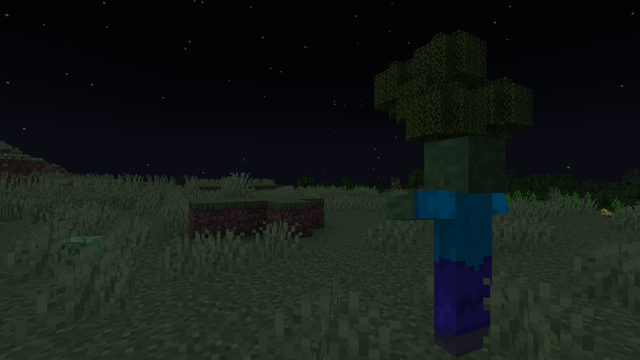slimes: (56, 234, 101, 272)
zombies: (417, 140, 512, 357)
